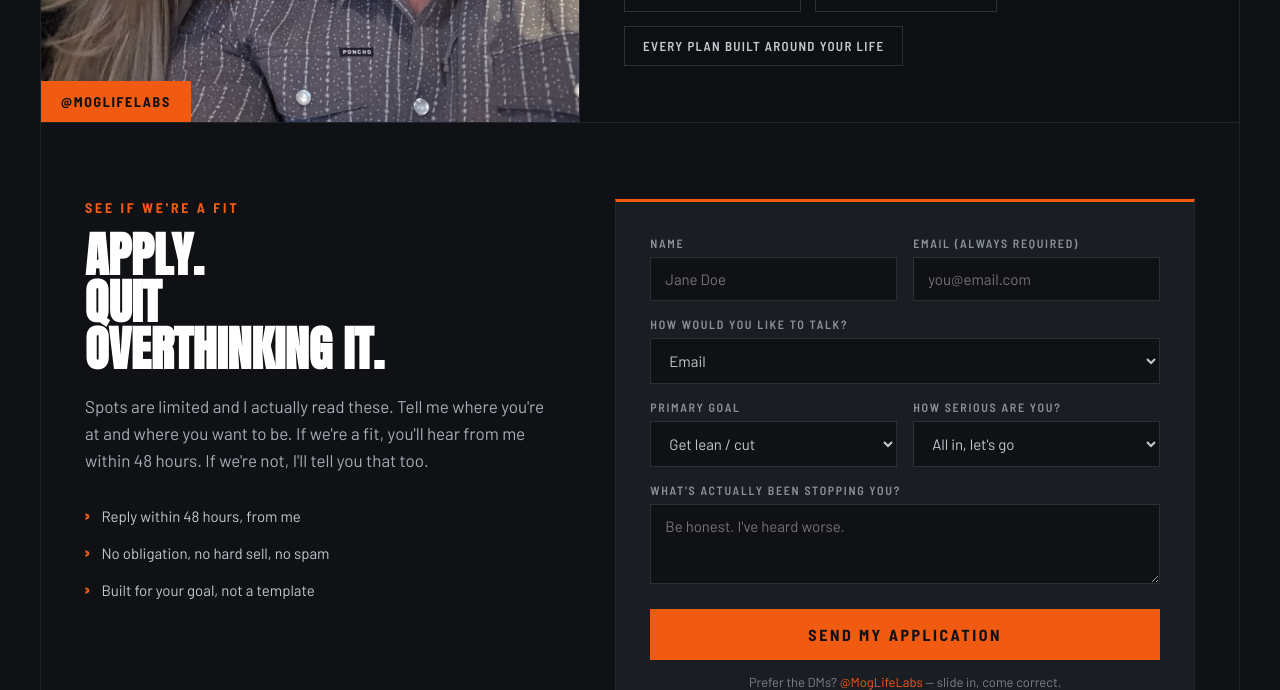
Scenario: MOG LIFE LABS app › requires contact details for phone and social preferences
(page scrolled)
Select "Phone" in the dropdown labelled "How would you like to talk?": (905, 361) [650,338,1160,384]
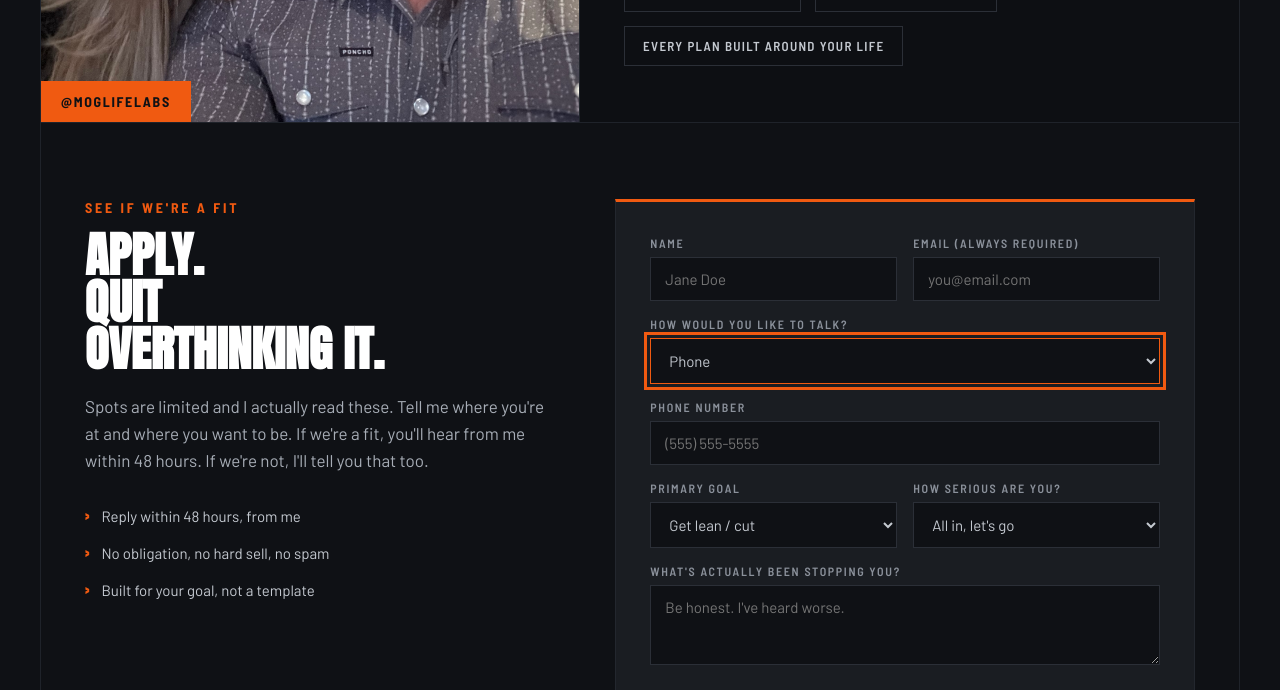
Select "Twitter / Instagram" in the dropdown labelled "How would you like to talk?": (905, 361) [650,338,1160,384]
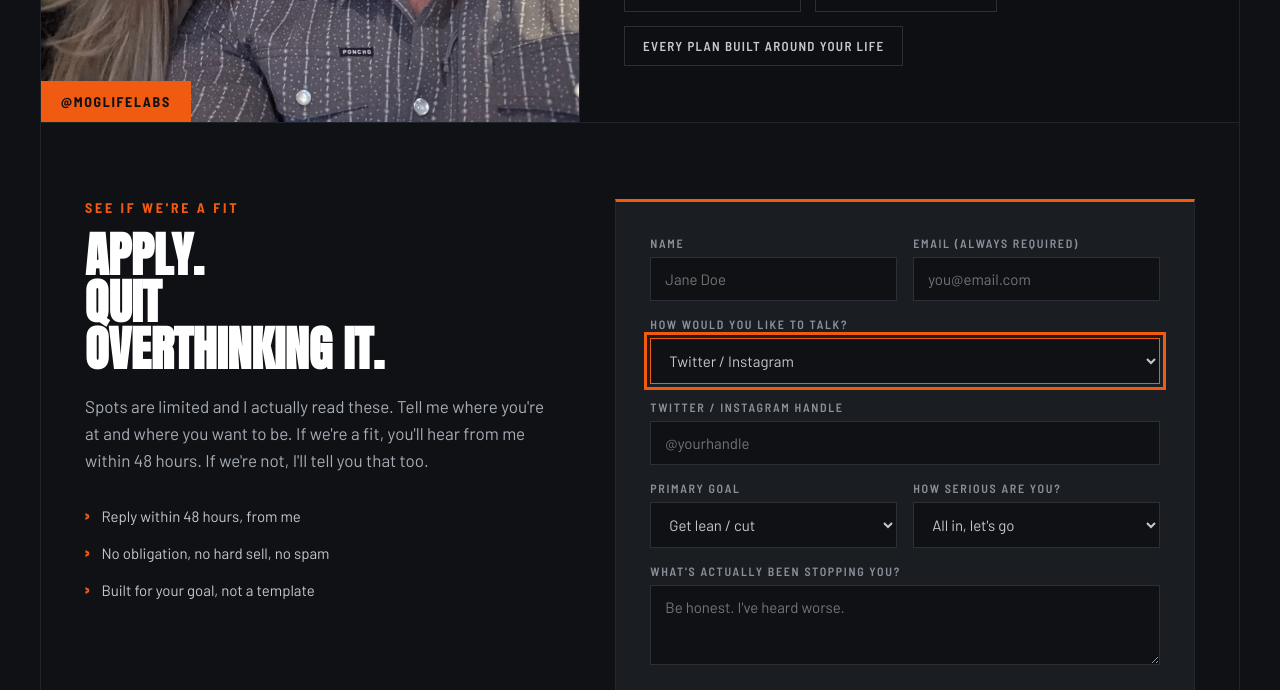
Result: the label labelled "Phone number" is gone
